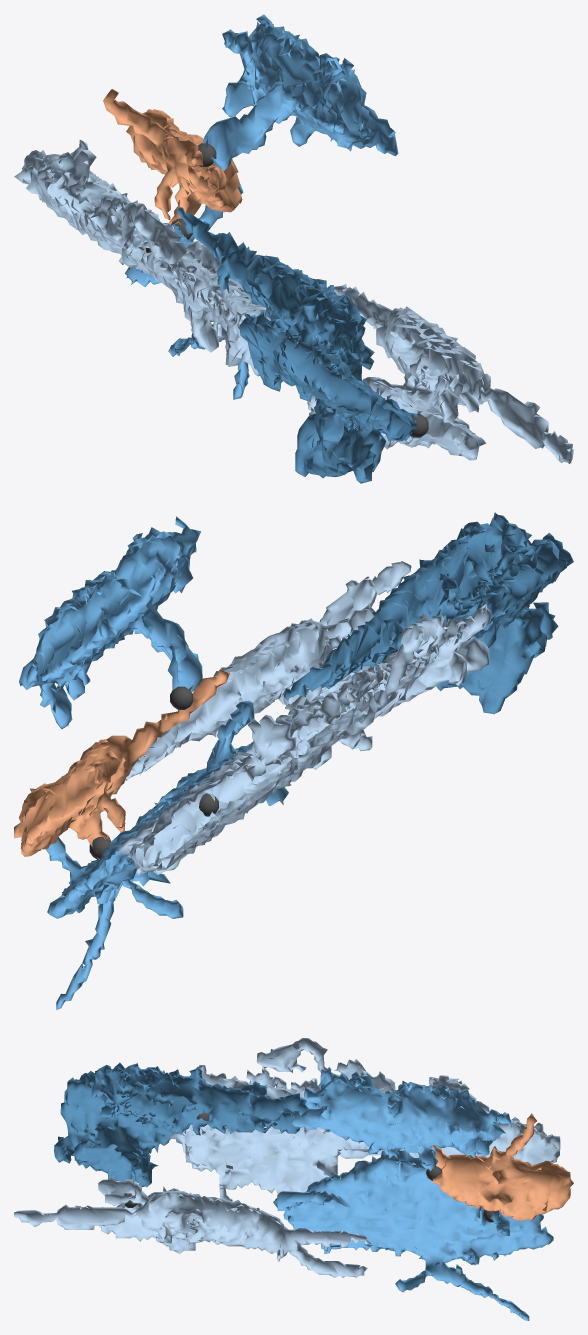
File: sample_1_1_group_3.glb
3 views of the same model, one above another, from view 1: azimuth 30°, elevation 25°; view 2: azimuth 150°, elevation 25°; view 3: azimuth 270°, elevation 25° (orthographic). The views are drawn at different scales.
Parts seen in each view (by area): view 1: osteocyte_85_elongated, osteocyte_59_elongated, osteocyte_119_elongated, osteocyte_49_elongated, osteocyte_69_round, osteocyte_46_elongated; view 2: osteocyte_59_elongated, osteocyte_85_elongated, osteocyte_119_elongated, osteocyte_49_elongated, osteocyte_69_round, osteocyte_46_elongated; view 3: osteocyte_46_elongated, osteocyte_85_elongated, osteocyte_59_elongated, osteocyte_49_elongated, osteocyte_119_elongated, osteocyte_69_round.
Boxes of the visible parts, x1,y1,x2,y2 form: osteocyte_85_elongated: [176, 207, 417, 483]; osteocyte_59_elongated: [14, 140, 317, 415]; osteocyte_119_elongated: [203, 14, 398, 170]; osteocyte_49_elongated: [334, 284, 573, 463]; osteocyte_69_round: [103, 89, 242, 224]; osteocyte_46_elongated: [107, 184, 249, 399]; osteocyte_59_elongated: [119, 604, 492, 877]; osteocyte_85_elongated: [284, 512, 573, 714]; osteocyte_119_elongated: [19, 516, 202, 729]; osteocyte_49_elongated: [118, 561, 411, 789]; osteocyte_69_round: [14, 668, 229, 859]; osteocyte_46_elongated: [45, 700, 288, 1009]; osteocyte_46_elongated: [273, 1148, 553, 1320]; osteocyte_85_elongated: [54, 1062, 316, 1194]; osteocyte_59_elongated: [169, 1038, 560, 1201]; osteocyte_49_elongated: [14, 1176, 370, 1278]; osteocyte_119_elongated: [291, 1066, 511, 1170]; osteocyte_69_round: [431, 1113, 573, 1220].
Bounding box in the file's own units: 32.3 × 41.42 × 79.86.
